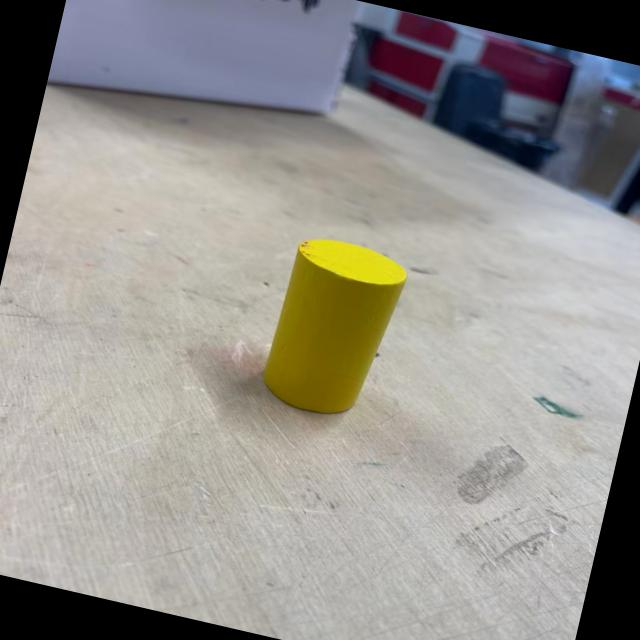yellow_cylinder: (256, 228, 413, 427)
